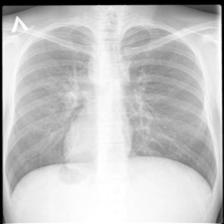tuberculosis: (3, 17, 219, 210)
